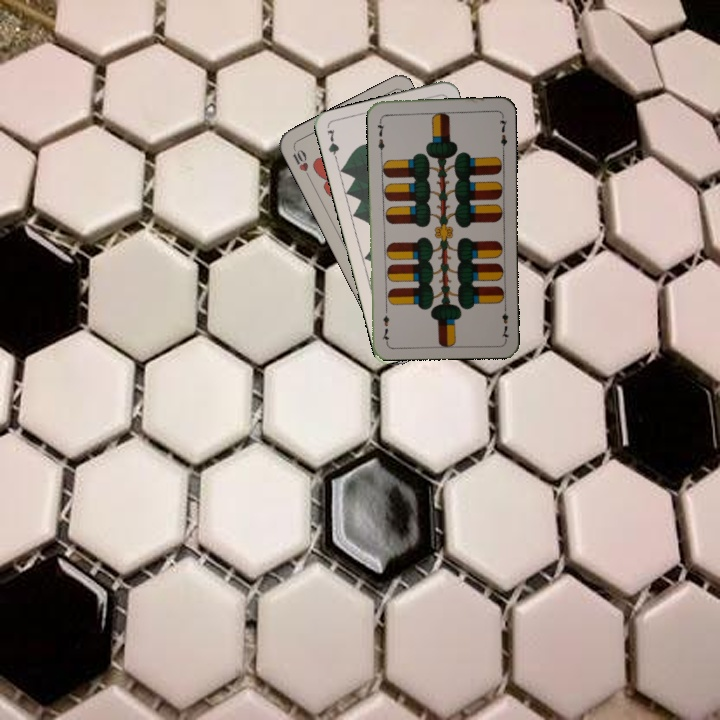E7: (497, 301, 512, 341), (373, 114, 387, 155)
G7: (323, 125, 342, 166)
H10: (288, 144, 313, 182)
